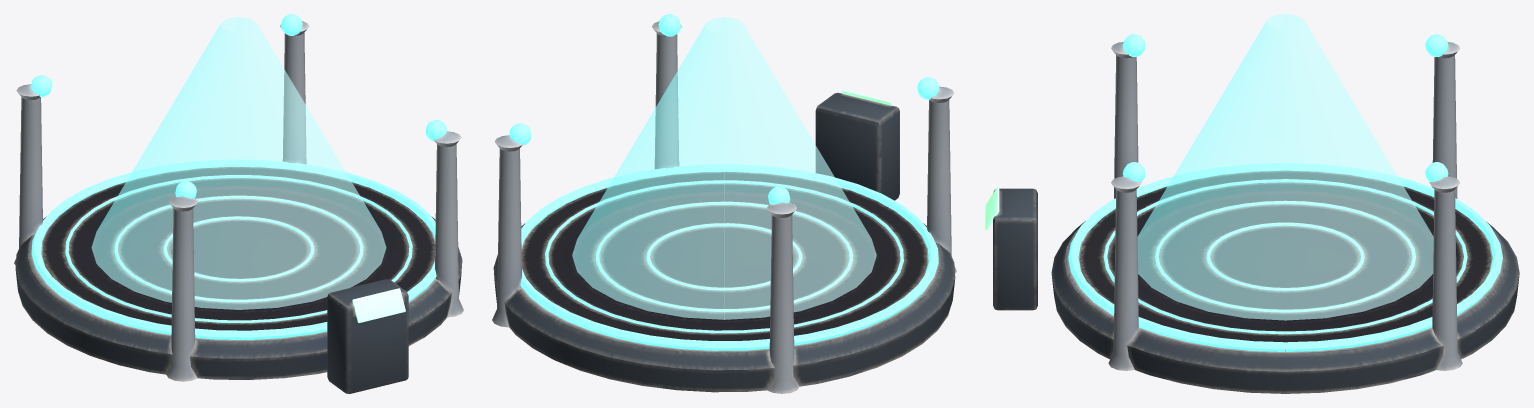
File: holo_theater.glb
3 views of the same model, side by side, from view 1: azimuth 30°, elevation 25°; view 2: azimuth 150°, elevation 25°; view 3: azimuth 270°, elevation 25° (orthographic). The views are drawn at different scales.
Visible parts, largest first — view 1: SM_HoloTheater; view 2: SM_HoloTheater; view 3: SM_HoloTheater.
Part boxes in pixels (left/top/right/bottom): SM_HoloTheater: left=14, top=14, right=463, bottom=393; SM_HoloTheater: left=492, top=14, right=956, bottom=393; SM_HoloTheater: left=985, top=14, right=1519, bottom=393.
Size of what is drawn, in the model's own units: 3.64 by 2.35 by 4.15.
Materials: 4 (1 with a texture image).
